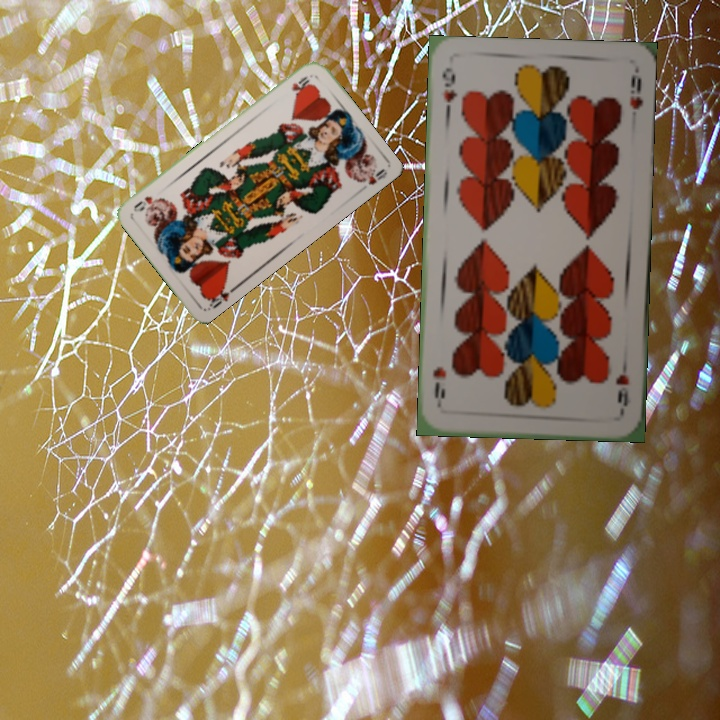H9: (438, 64, 460, 120), (612, 370, 633, 415)
HO: (203, 280, 239, 312), (288, 72, 312, 97)
